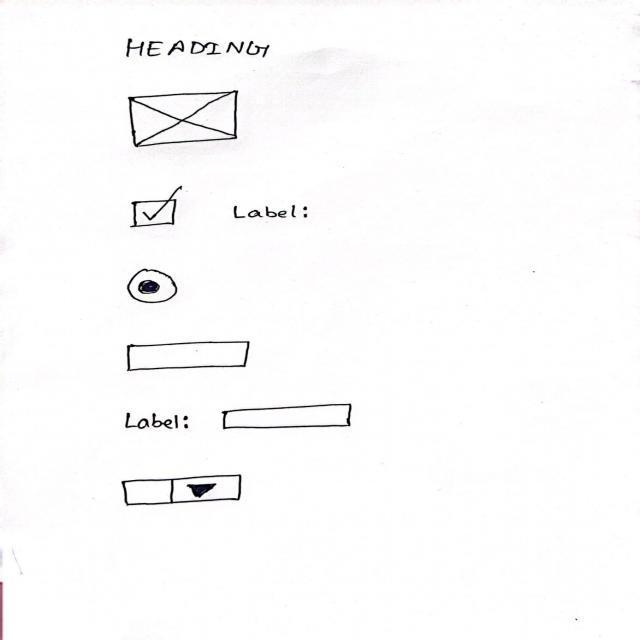radio: (124, 263, 184, 312)
textbox: (111, 335, 253, 377), (211, 404, 371, 440)
